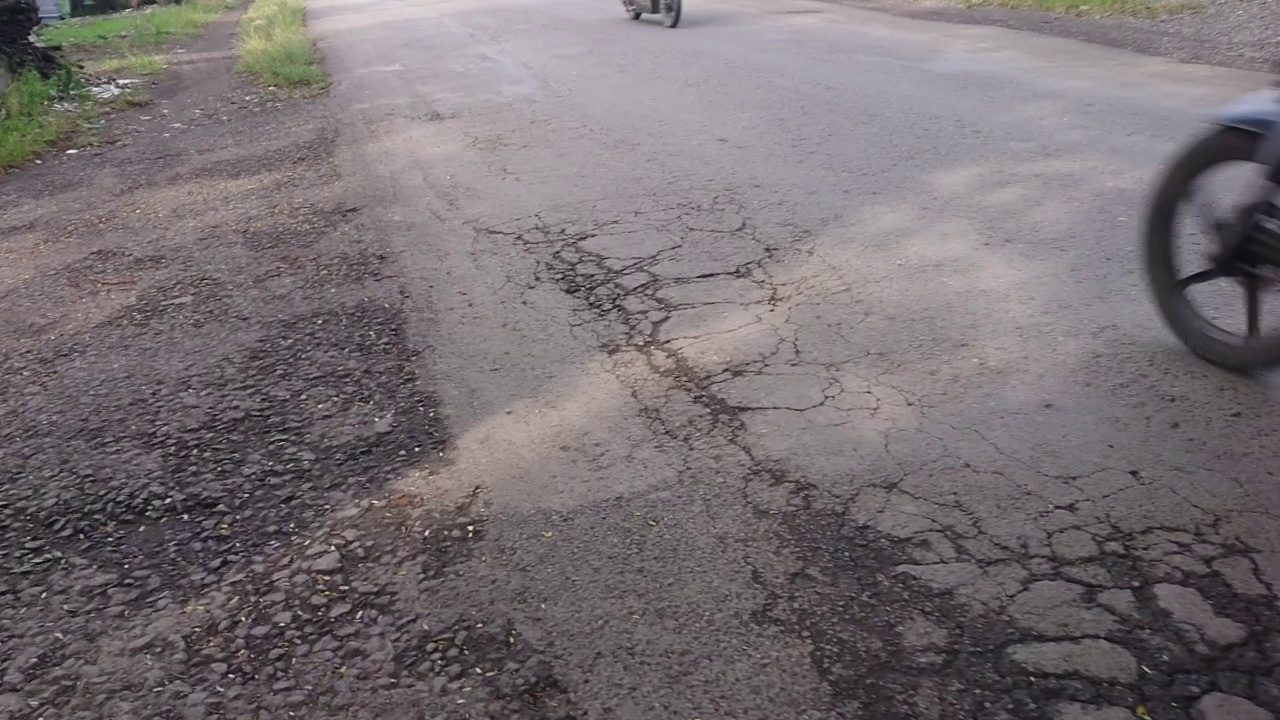Retak: (783, 503, 1267, 720), (567, 237, 812, 464)
